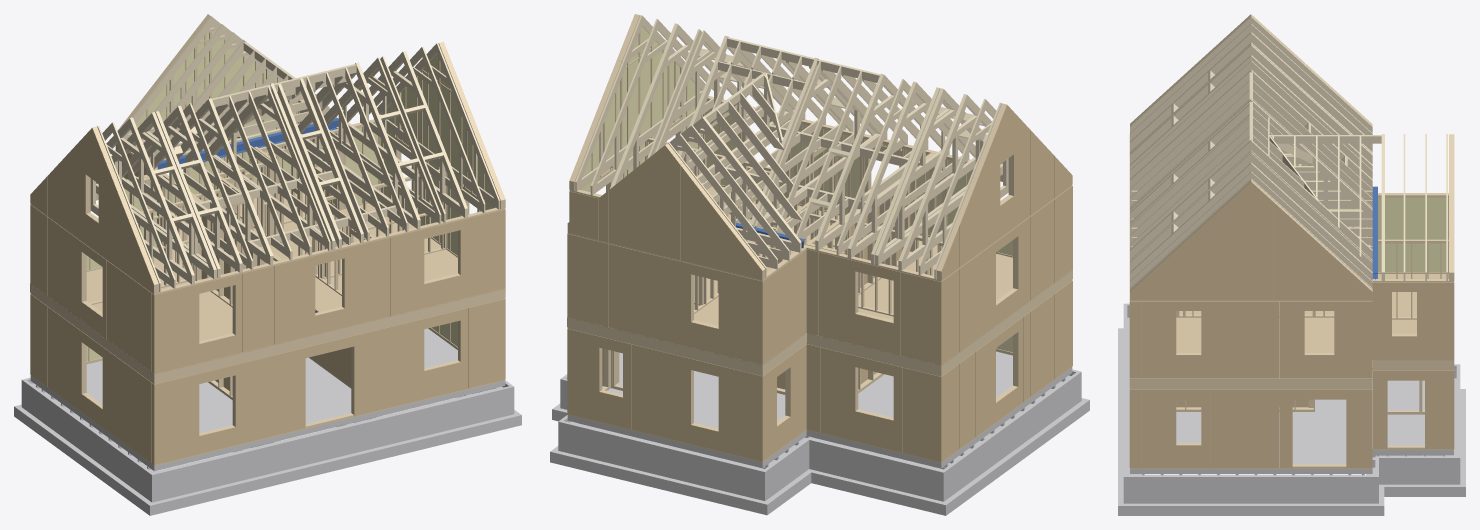
File: stage-5.glb
3 renders of one model, left to right at view 1: azimuth 30°, elevation 25°; view 2: azimuth 150°, elevation 25°; view 3: azimuth 270°, elevation 25°, orthographic. The views are drawn at different scales.
Size of the model in its own units: 11.53 by 9.97 by 9.53.
